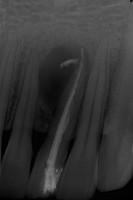Furcation Involvement: (38, 41, 86, 114)
